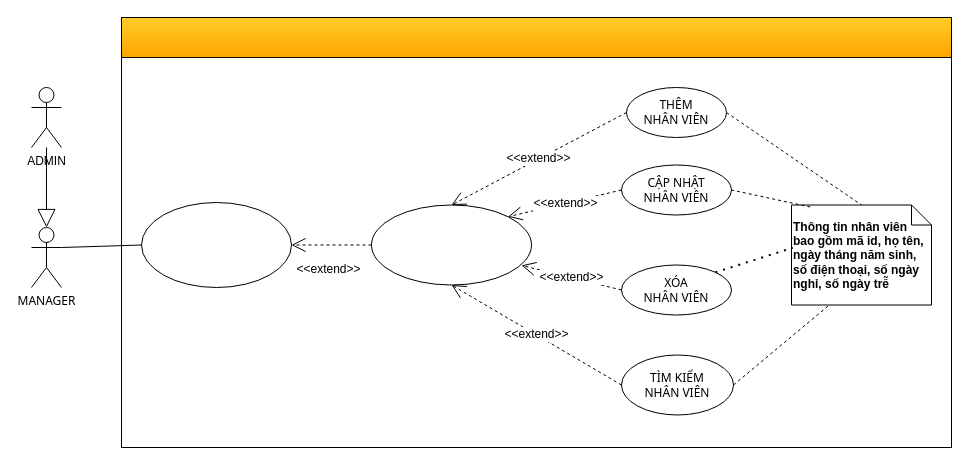
Some shapes in this 969 by 465 pixel diagram are drawn without their labels. Each missing label, with the centre of its shape:
"HE THONG QUAN LI NHAN VIEN" goes at point 536,37.
"QUẢN LÍ THÔNG TIN NHÂN VIÊN" goes at point 216,245.
"XEM DANH SÁCH NHÂN VIÊN" goes at point 451,244.
